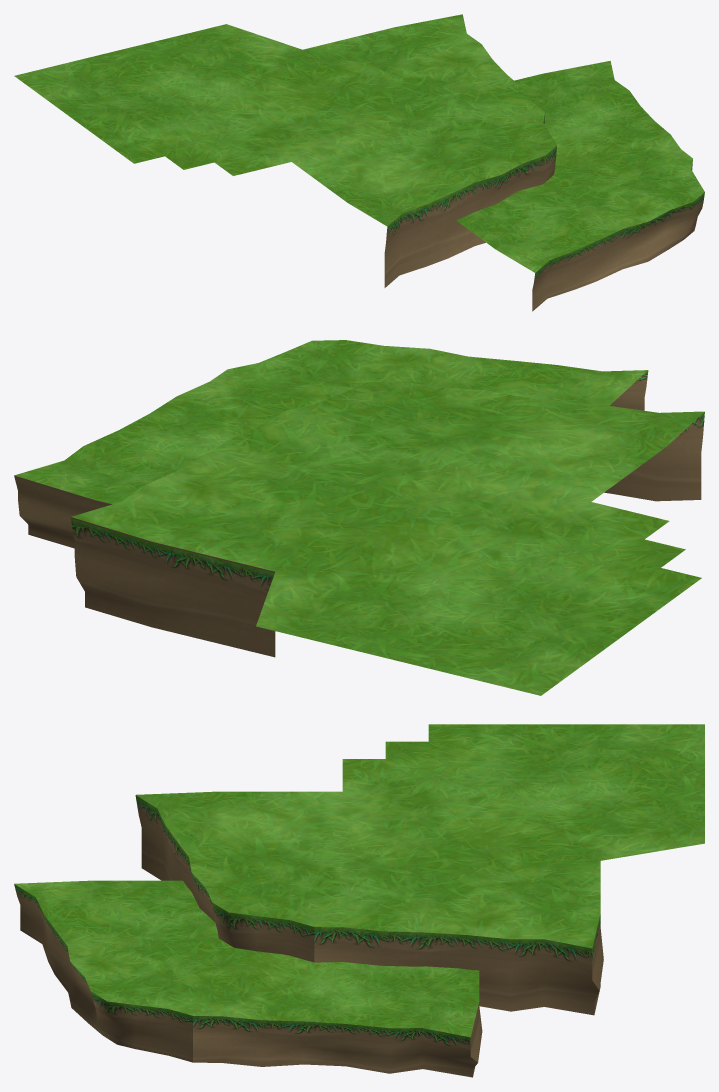
File: Hub_platform_01.FBX
The picture shows the model from 3 angles, top to bottom: view 1: azimuth 30°, elevation 25°; view 2: azimuth 150°, elevation 25°; view 3: azimuth 270°, elevation 25°; orthographic projection. The views are drawn at different scales.
Parts seen in each view (by area): view 1: hubplatform_01, hub_platform_01_cliff; view 2: hubplatform_01, hub_platform_01_cliff; view 3: hubplatform_01, hub_platform_01_cliff.
Part boxes in pixels (box(x1,y1,x2,y2)): hubplatform_01: box(14, 14, 704, 272); hub_platform_01_cliff: box(384, 112, 704, 311); hubplatform_01: box(14, 340, 704, 695); hub_platform_01_cliff: box(14, 370, 704, 657); hubplatform_01: box(14, 724, 704, 1037); hub_platform_01_cliff: box(14, 795, 603, 1077).
Bounding box in the file's own units: 3706 × 3900 × 514.
